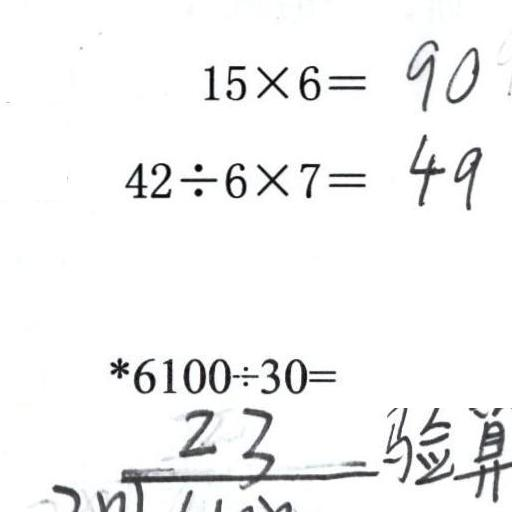ans: (404, 128, 483, 212), (401, 33, 480, 110)
